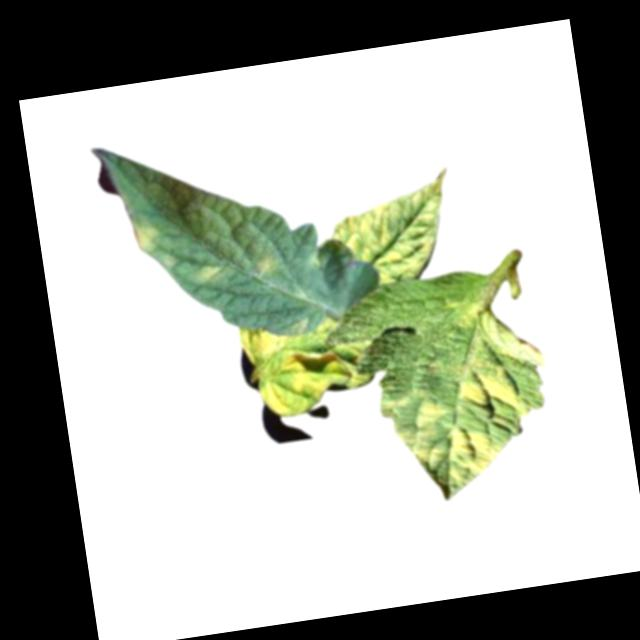Leaf_Mold: (364, 302, 564, 509), (322, 167, 461, 291), (253, 345, 355, 421), (233, 320, 286, 366), (127, 217, 166, 255), (187, 258, 231, 291), (249, 251, 280, 282)
